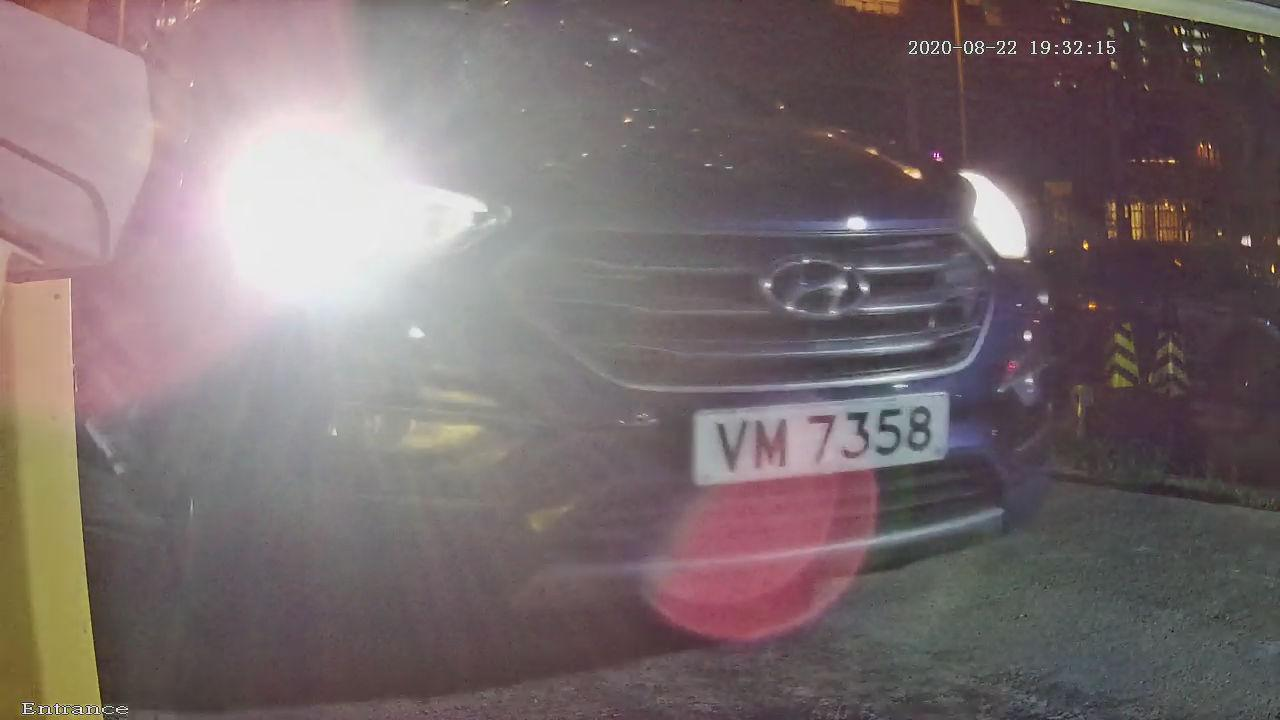Car: (1, 20, 1166, 663)
License Plate: (638, 346, 991, 530)
